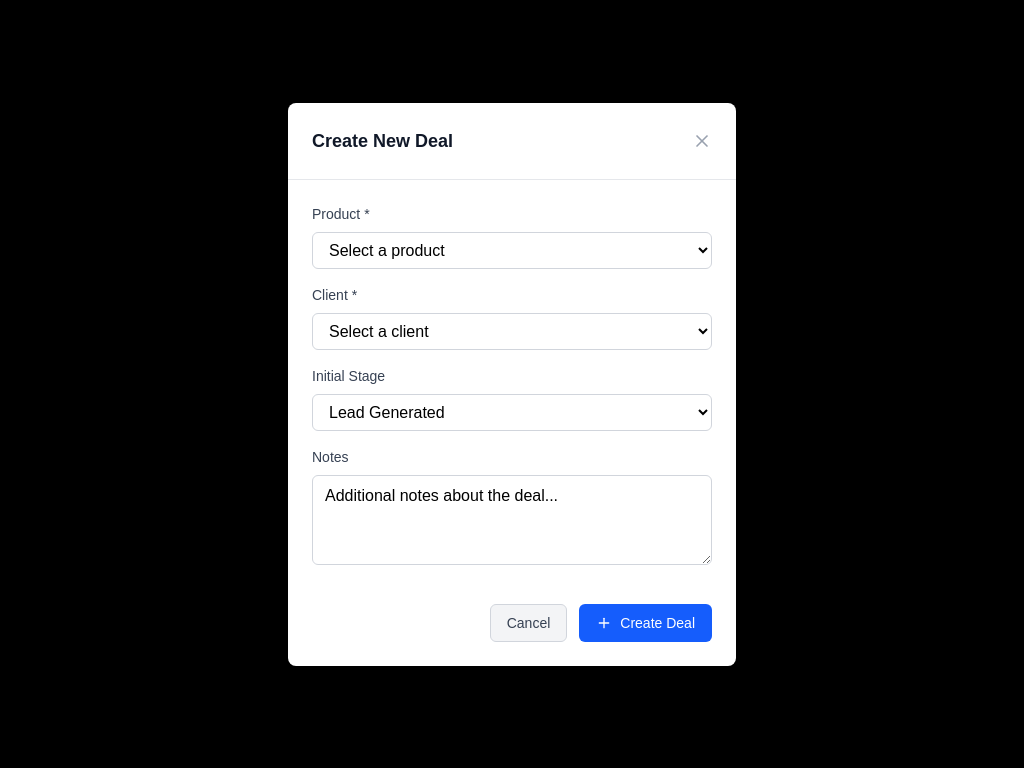
Test: CreateDealModal › shows validation errors for required fields
Try to submit without selecting required fields
Click the button "Create Deal" at (646, 622), box x1=579 y1=604 x2=712 y2=642
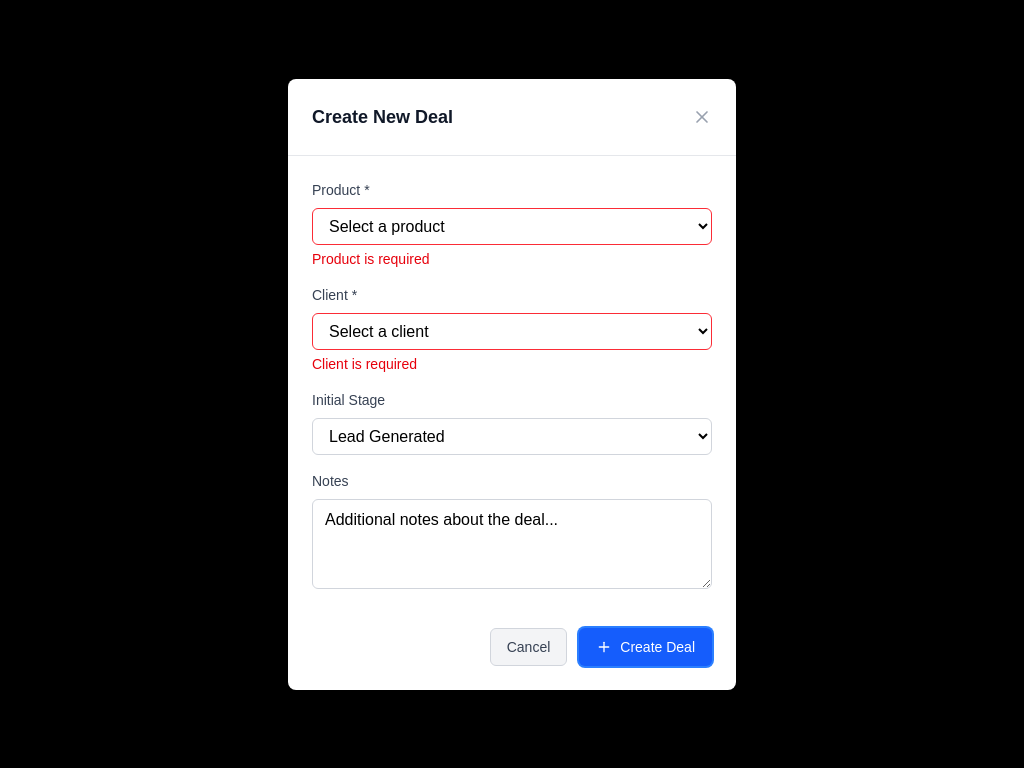
Expected: the text "Product is required" is shown, x1=312 y1=250 x2=430 y2=266
Expected: the text "Client is required" is shown, x1=312 y1=356 x2=417 y2=372
